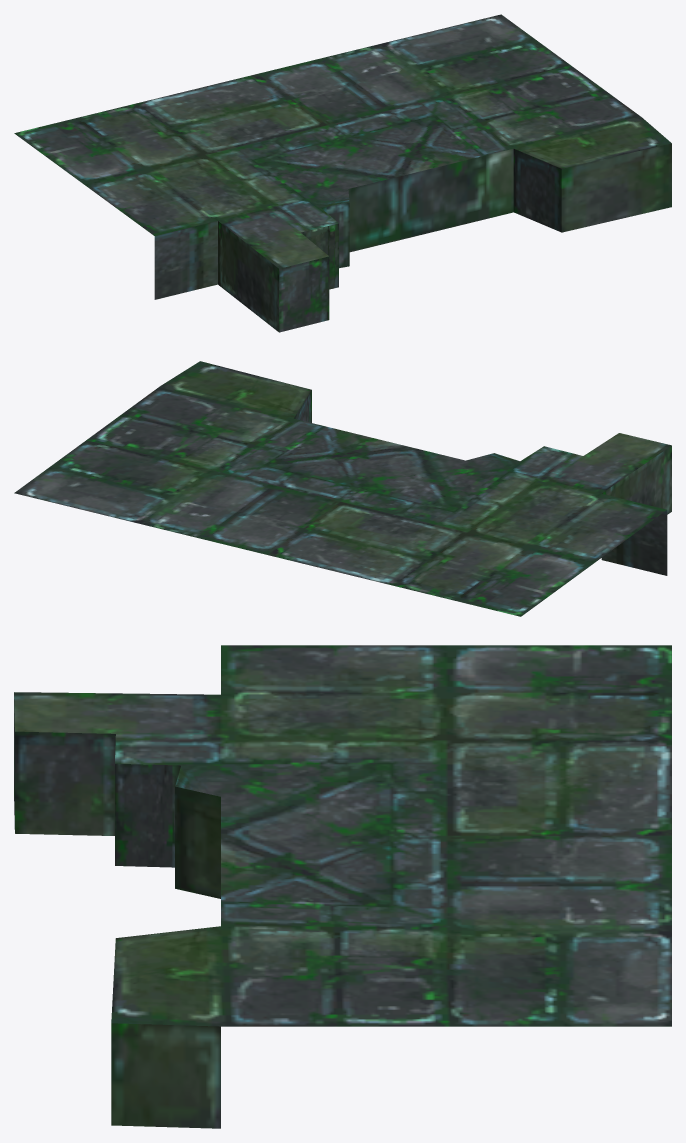
The model's file is stemple_floor_straight_03.fbx.
3 views of the same model, one above another, from view 1: azimuth 30°, elevation 25°; view 2: azimuth 150°, elevation 25°; view 3: azimuth 270°, elevation 25° (orthographic). The views are drawn at different scales.
Visible parts, largest first — view 1: obj1.091; view 2: obj1.091; view 3: obj1.091.
Part boxes in pixels (bbox=[...]): obj1.091: bbox=[14, 14, 671, 332]; obj1.091: bbox=[14, 361, 671, 616]; obj1.091: bbox=[14, 645, 671, 1128].
Bounding box in the file's own units: 4 × 0.5 × 2.92.
